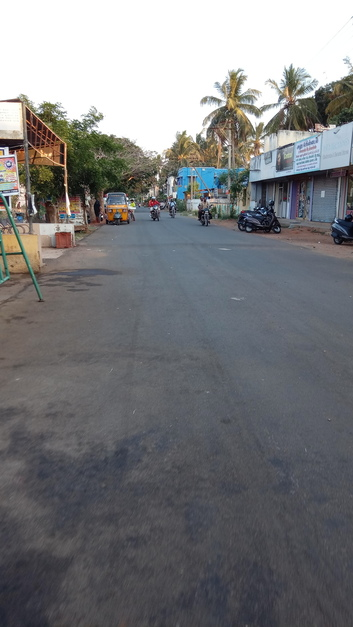bump: (71, 237, 312, 249)
